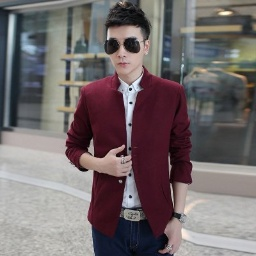face: (103, 2, 153, 75)
